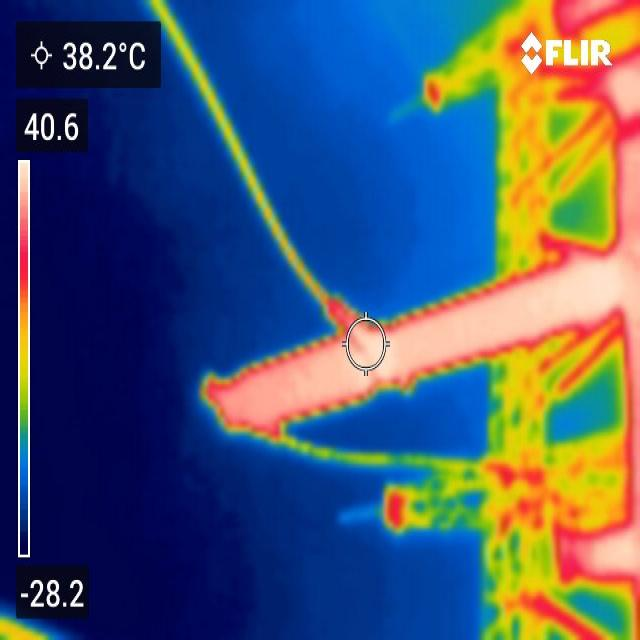Zona_Extrema: (219, 247, 636, 429), (589, 53, 639, 577)
